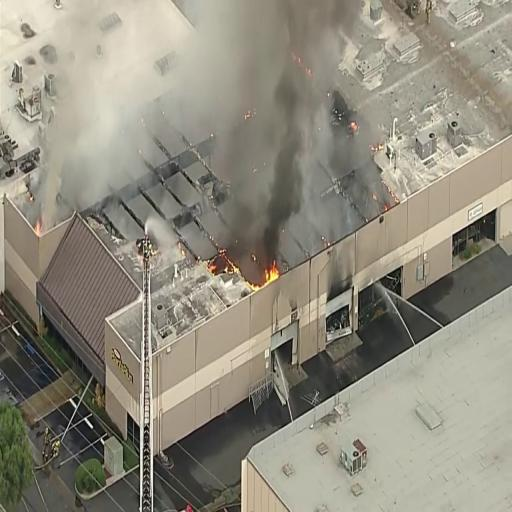smoke: (254, 4, 322, 262)
